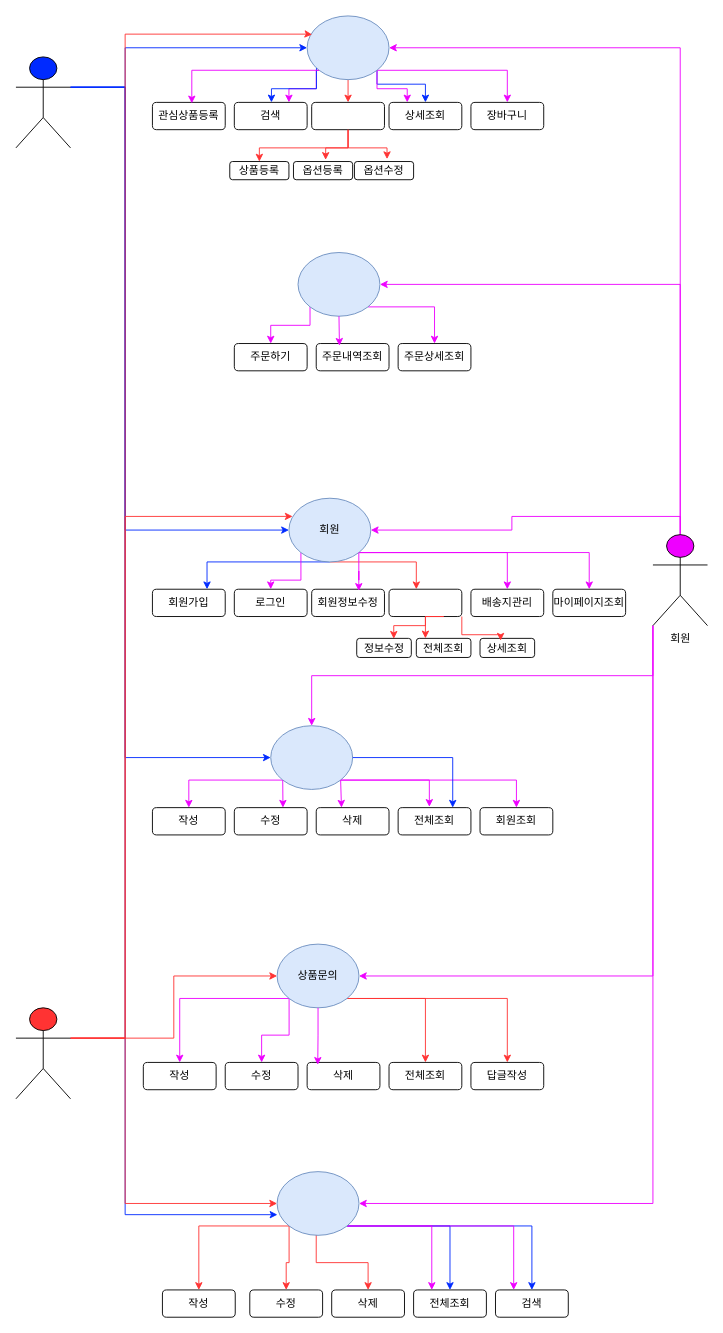
Some shapes in this 723 by 1333 pixel diagram are drawn without their labels. Here are the shapes that lost their labels. From the top down, the centre of each, then its label:
[347,47]: 상품
[43,102]: 비회원
[347,115]: 등록
[338,284]: 주문
[425,602]: 회원관리
[311,757]: 리뷰
[43,1053]: 관리자
[317,1203]: FAQ
